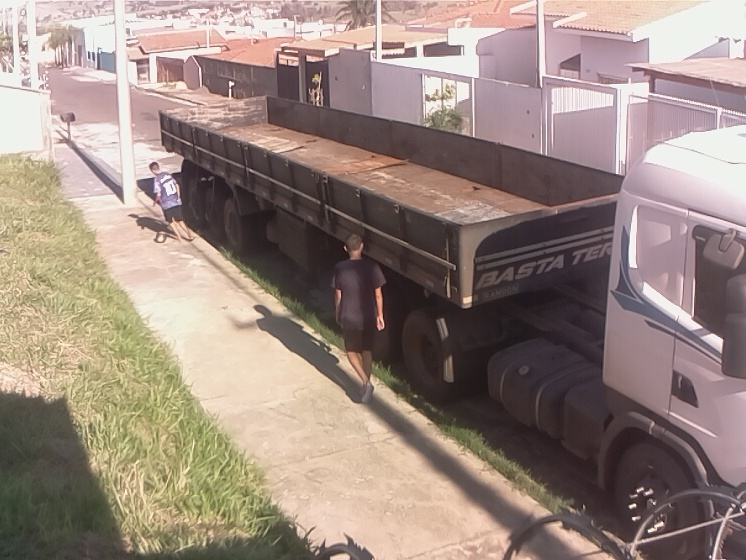person: (330, 232, 388, 407), (148, 159, 200, 247)
